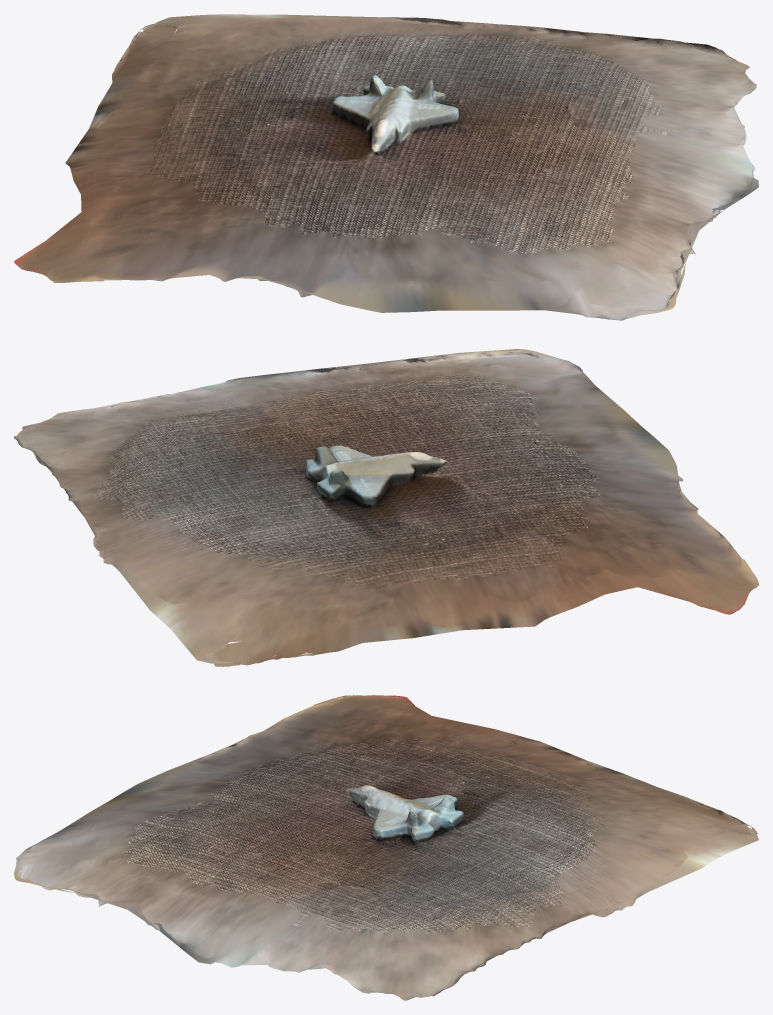
Rendered from jet_scan.glb.
3 renders of one model, top to bottom at view 1: azimuth 30°, elevation 25°; view 2: azimuth 150°, elevation 25°; view 3: azimuth 270°, elevation 25°, orthographic. The views are drawn at different scales.
Visible parts, largest first — view 1: mesh; view 2: mesh; view 3: mesh.
Part boxes in pixels (x1,y1,x2,y2): mesh: (14,14,758,320); mesh: (14,349,758,666); mesh: (14,695,758,1000).
Bounding box in the file's own units: 0.6953 × 0.0681 × 0.6875.
Materials: 1 (1 with a texture image).
